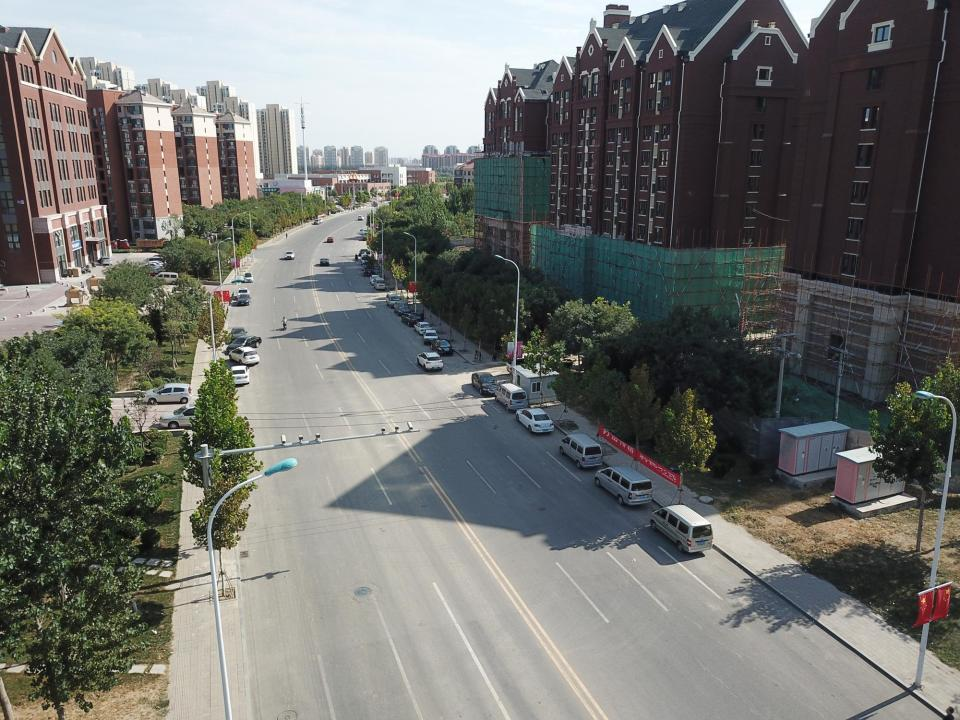car: (159, 402, 218, 427), (516, 408, 554, 436), (142, 383, 192, 404), (472, 370, 500, 396), (226, 335, 262, 354), (228, 347, 258, 365), (416, 352, 443, 371), (228, 365, 250, 386), (430, 339, 453, 355), (402, 312, 423, 326), (229, 327, 248, 341), (232, 293, 252, 306), (414, 321, 432, 335), (140, 264, 163, 274), (423, 329, 438, 344), (145, 260, 167, 270), (138, 265, 158, 275), (134, 270, 154, 278), (237, 287, 251, 298), (370, 275, 380, 285), (244, 272, 253, 283), (100, 256, 111, 265), (284, 251, 295, 259), (359, 249, 370, 256), (360, 228, 370, 235), (320, 258, 330, 265), (326, 236, 334, 243), (362, 234, 369, 240), (358, 215, 364, 221), (314, 219, 320, 224), (318, 218, 324, 223)
truck: (135, 238, 177, 251), (100, 238, 131, 251), (364, 261, 376, 276), (371, 200, 378, 207)
van: (651, 504, 713, 553), (596, 464, 652, 508), (558, 432, 602, 468), (494, 382, 528, 412), (150, 271, 180, 286), (394, 300, 410, 315), (386, 293, 400, 308), (373, 278, 386, 291), (361, 254, 370, 263)
